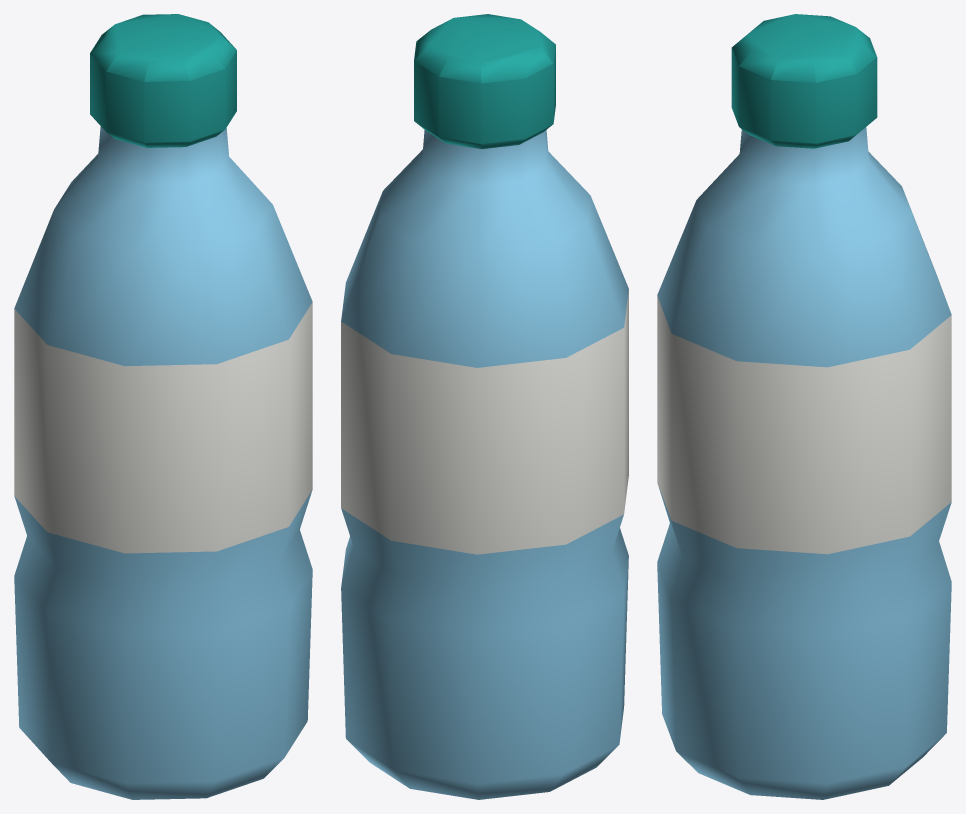
Rendered from Agua.fbx.
The picture shows the model from 3 angles, left to right: view 1: azimuth 30°, elevation 25°; view 2: azimuth 150°, elevation 25°; view 3: azimuth 270°, elevation 25°; orthographic projection.
Parts seen in each view (by area): view 1: Agua; view 2: Agua; view 3: Agua.
Part boxes in pixels (bbox=[...]): Agua: bbox=[14, 14, 312, 799]; Agua: bbox=[341, 14, 628, 799]; Agua: bbox=[657, 14, 951, 799].
Bounding box in the file's own units: 0.3 × 0.8 × 0.3.
Materials: 1 (1 with a texture image).
